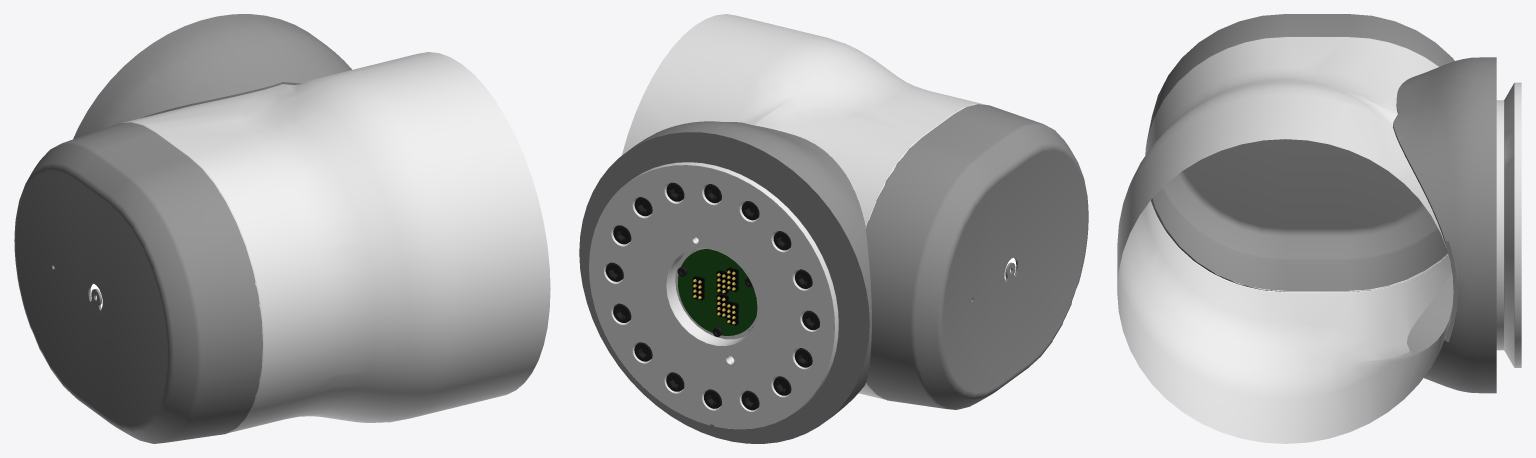
The model's file is D148-November-proximal.glb.
3 renders of one model, left to right at view 1: azimuth 30°, elevation 25°; view 2: azimuth 150°, elevation 25°; view 3: azimuth 270°, elevation 25°, orthographic. The views are drawn at different scales.
Visible parts, largest first — view 1: D148-November-proximal.001; view 2: D148-November-proximal.001; view 3: D148-November-proximal.001.
Boxes of the visible parts, x1=… form: D148-November-proximal.001: x1=14, y1=14, x2=550, y2=443; D148-November-proximal.001: x1=579, y1=14, x2=1088, y2=443; D148-November-proximal.001: x1=1117, y1=14, x2=1521, y2=443.
Size of the model in its own units: 0.1765 by 0.148 by 0.178.
